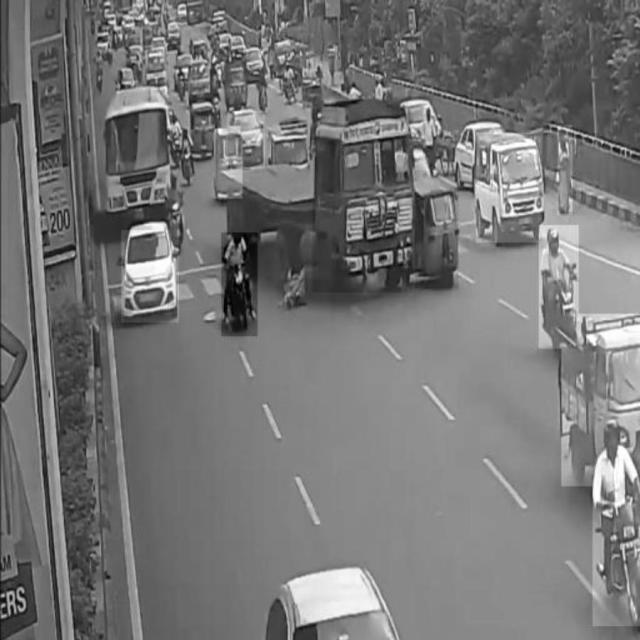person: (558, 125, 574, 215)
vehicle: (312, 98, 413, 293), (562, 314, 640, 486), (593, 416, 640, 626), (104, 89, 170, 230), (476, 133, 542, 243), (122, 220, 179, 322), (415, 171, 459, 289), (540, 225, 580, 349), (222, 233, 258, 336), (229, 113, 266, 170), (215, 130, 243, 200)
